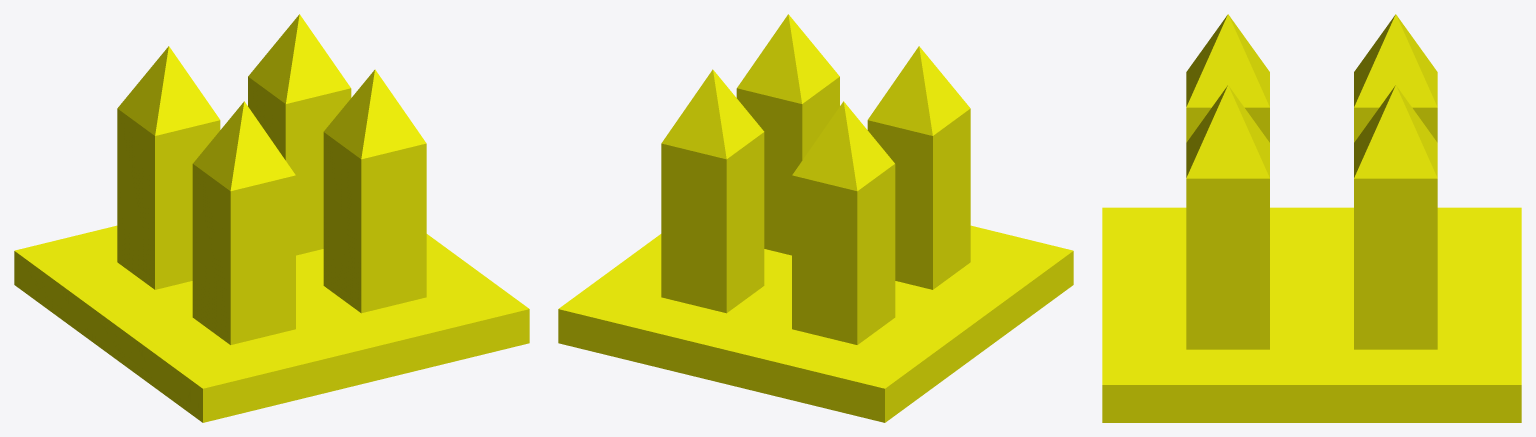
File: sampleChunk2.glb
The picture shows the model from 3 angles, left to right: view 1: azimuth 30°, elevation 25°; view 2: azimuth 150°, elevation 25°; view 3: azimuth 270°, elevation 25°; orthographic projection. The views are drawn at different scales.
Size of the model in its own units: 10 by 7.5 by 10.
